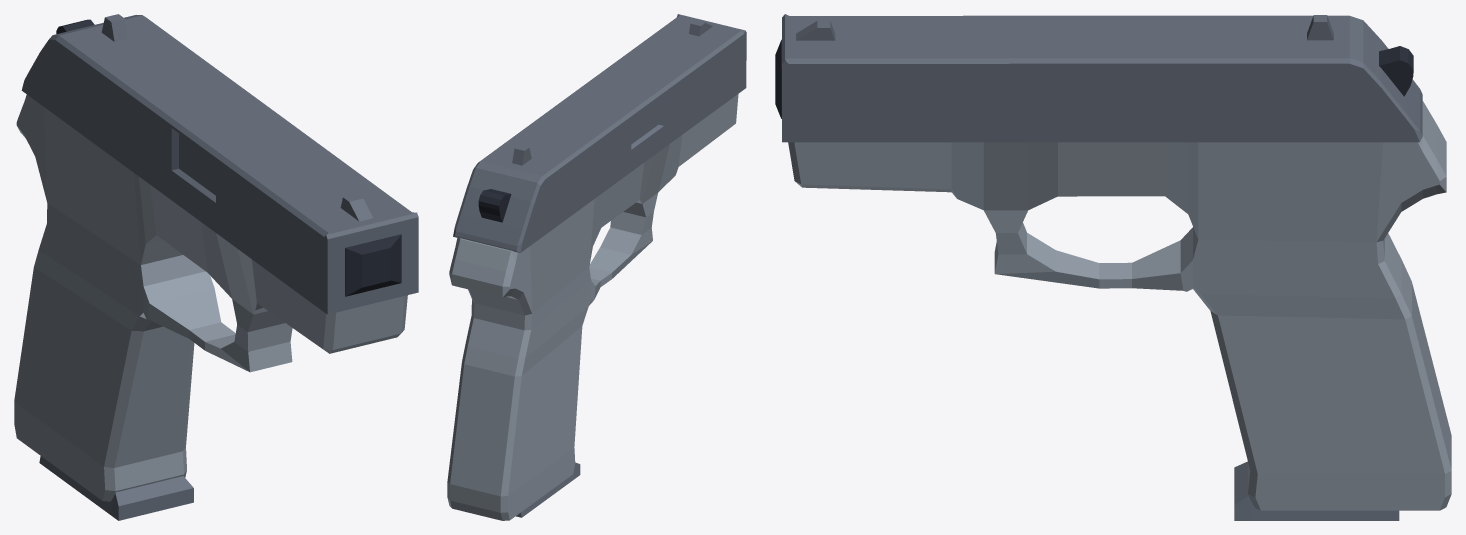
Rendered from 8000Cougar.fbx.
3 renders of one model, left to right at view 1: azimuth 30°, elevation 25°; view 2: azimuth 150°, elevation 25°; view 3: azimuth 270°, elevation 25°, orthographic. The views are drawn at different scales.
Parts seen in each view (by area): view 1: Cube, Cube.001, Cube.002, Cube.003; view 2: Cube, Cube.001, Cube.002, Cube.003; view 3: Cube, Cube.001, Cube.003, Cube.002.
Part boxes in pixels (bbox=[...]): Cube: bbox=[14, 94, 407, 501]; Cube.001: bbox=[21, 14, 418, 314]; Cube.002: bbox=[56, 19, 401, 296]; Cube.003: bbox=[39, 456, 193, 520]; Cube: bbox=[447, 94, 738, 520]; Cube.001: bbox=[453, 14, 746, 252]; Cube.002: bbox=[478, 189, 511, 222]; Cube.003: bbox=[516, 462, 580, 517]; Cube: bbox=[788, 101, 1451, 510]; Cube.001: bbox=[782, 14, 1422, 142]; Cube.003: bbox=[1234, 461, 1399, 520]; Cube.002: bbox=[775, 39, 1413, 118].
Size of the model in its own units: 162 by 789 by 1001.
